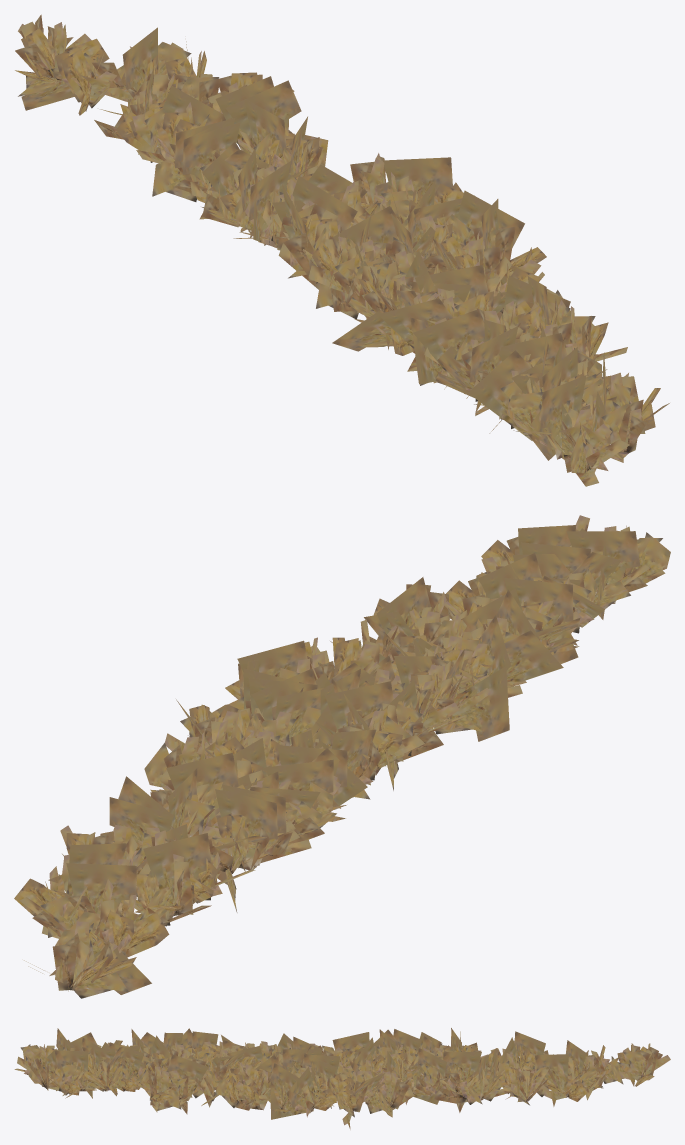
File: sm10_044_fieldplant01.fbx
3 views of the same model, one above another, from view 1: azimuth 30°, elevation 25°; view 2: azimuth 150°, elevation 25°; view 3: azimuth 270°, elevation 25° (orthographic). The views are drawn at different scales.
Visible parts, largest first — view 1: LOD_1_Group_0_Sub_1__sm10_044_fieldplant01_A_Mat__Env_AlphaT; view 2: LOD_1_Group_0_Sub_1__sm10_044_fieldplant01_A_Mat__Env_AlphaT; view 3: LOD_1_Group_0_Sub_1__sm10_044_fieldplant01_A_Mat__Env_AlphaT.
Boxes of the visible parts, x1,y1,x2,y2 form: LOD_1_Group_0_Sub_1__sm10_044_fieldplant01_A_Mat__Env_AlphaT: [15, 14, 669, 486]; LOD_1_Group_0_Sub_1__sm10_044_fieldplant01_A_Mat__Env_AlphaT: [14, 515, 670, 998]; LOD_1_Group_0_Sub_1__sm10_044_fieldplant01_A_Mat__Env_AlphaT: [14, 1028, 670, 1129].
Size of the model in its own units: 4.82 by 1.79 by 19.5.
